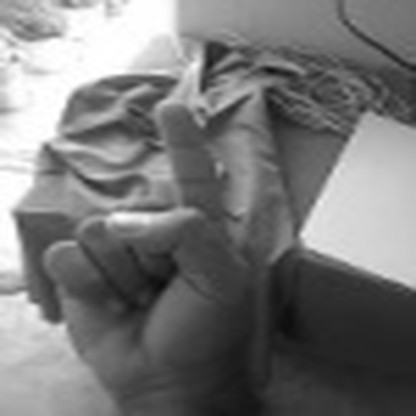d: (33, 96, 248, 416)
